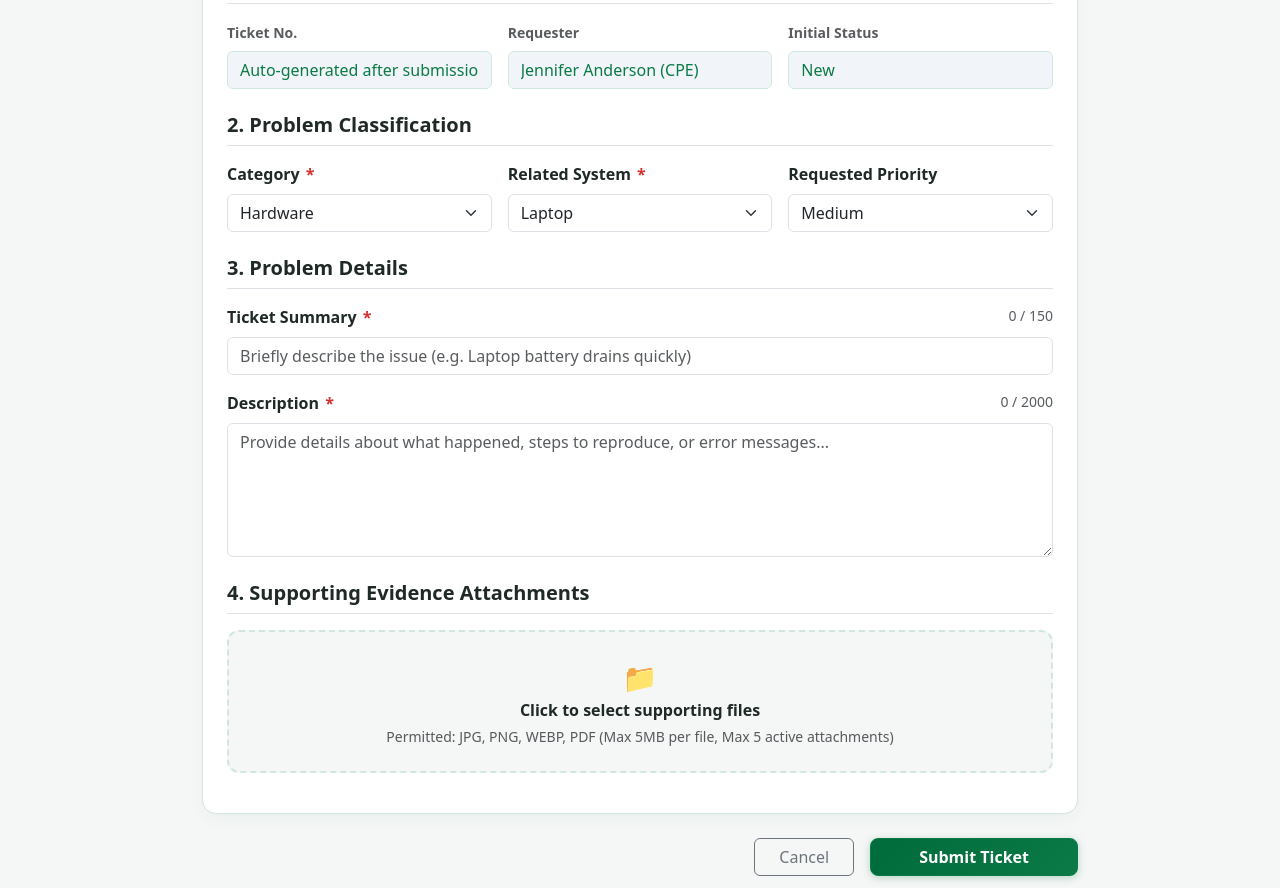
Test: UI-02 & UI-03: Create Ticket Form Component › should display form fields and validate required input lengths
(page scrolled)
Click the button "Submit Ticket" at (974, 857), box top-left (870, 838), bottom-right (1078, 876)
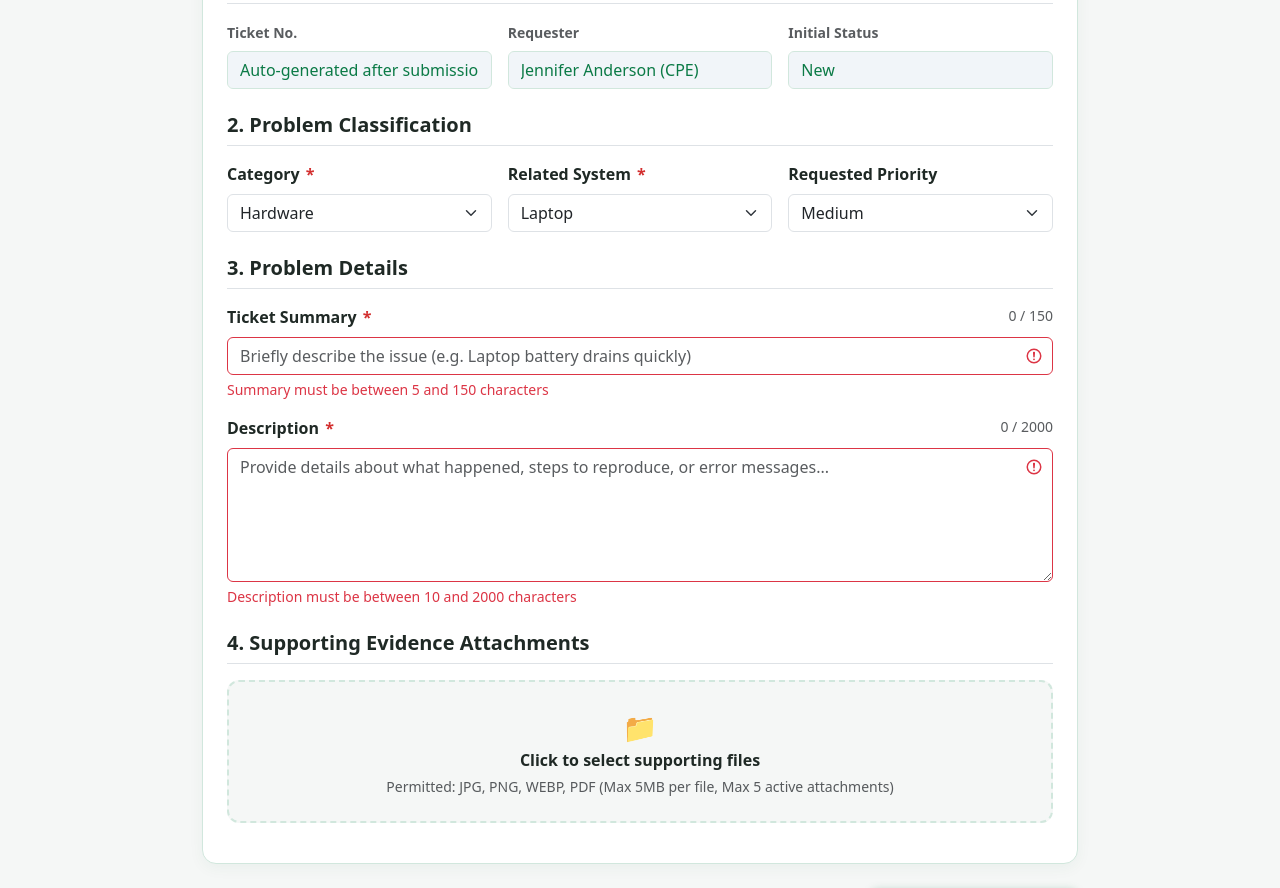
Check: the text "Summary must be between 5 and 150 characters" is shown, box top-left (227, 380), bottom-right (549, 399)
